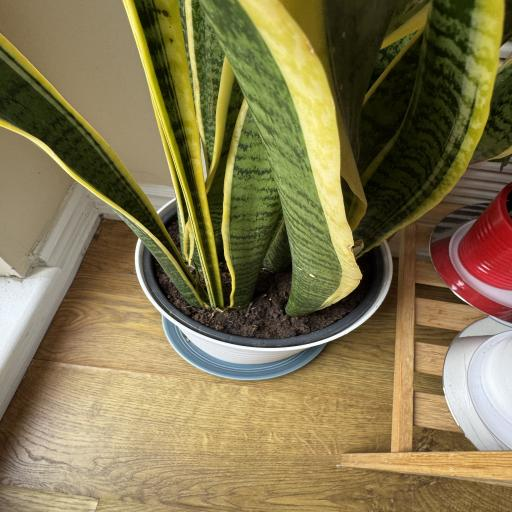Plant Pot: (131, 186, 394, 364), (456, 176, 511, 289)
